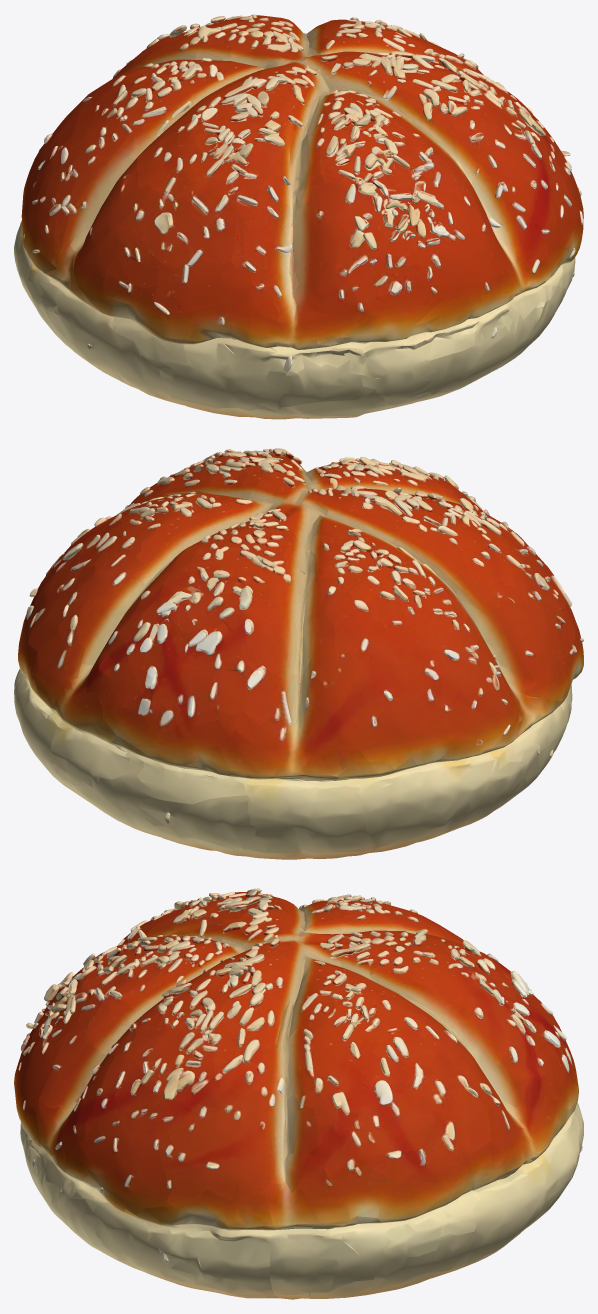
Rendered from pao.glb.
The picture shows the model from 3 angles, top to bottom: view 1: azimuth 30°, elevation 25°; view 2: azimuth 150°, elevation 25°; view 3: azimuth 270°, elevation 25°; orthographic projection.
Size of the model in its own units: 1.86 by 1.1 by 1.88.
1 material, 1 textured.
